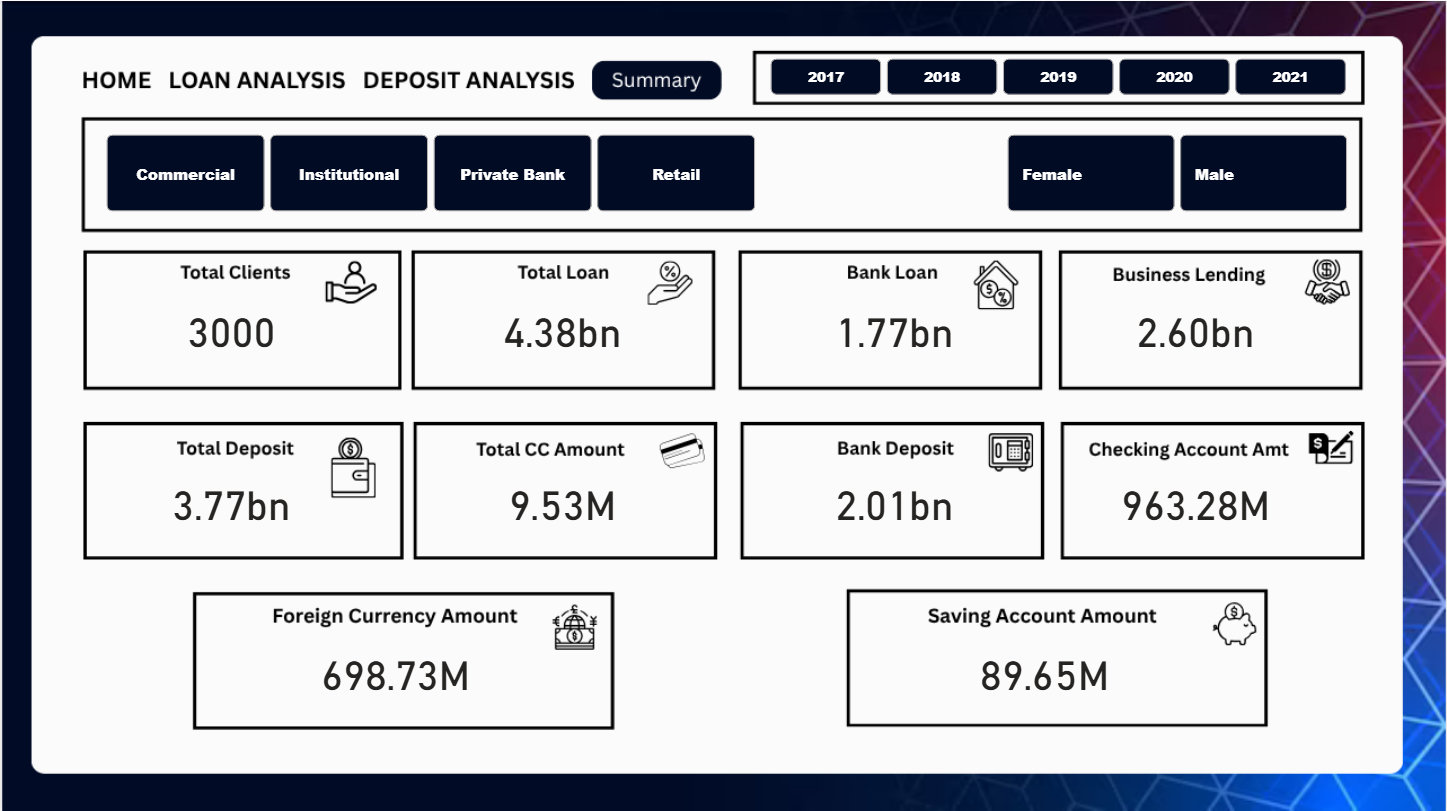

The page's visual inventory and layout, read from the dashboard file:
{"tool":"powerbi","page":{"name":"Summary","canvas":[1280,720],"ordinal":4},"visuals":[{"type":"advancedSlicerVisual","fields":{"Values":["bank_db customer.Year of Joining"]},"box":[676.8,45.8,521.2,42.2],"z":0},{"type":"advancedSlicerVisual","fields":{"Values":["bank_db customer.BRId"]},"box":[88.1,113.4,588.7,78.4],"z":1000},{"type":"advancedSlicerVisual","fields":{"Values":["bank_db customer.GenderId"]},"box":[886.7,113.4,311.3,78.4],"z":2000},{"type":"card","fields":{"Values":["bank_db customer.Total Deposits"]},"box":[108.6,411.4,190.6,66.4],"z":3000},{"type":"card","fields":{"Values":["CountNonNull(bank_db customer.Name)"]},"box":[108.6,258.2,190.6,66.4],"z":4000},{"type":"card","fields":{"Values":["bank_db customer.Total Loan"]},"box":[401.7,258.2,190.6,66.4],"z":5000},{"type":"card","fields":{"Values":["Sum(bank_db customer.Bank Loans)"]},"box":[696.1,258.2,190.6,66.4],"z":6000},{"type":"card","fields":{"Values":["Sum(bank_db customer.Business Lending)"]},"box":[962.7,258.2,190.6,66.4],"z":7000},{"type":"card","fields":{"Values":["Sum(bank_db customer.Bank Deposits)"]},"box":[696.1,411.4,190.6,66.4],"z":8000},{"type":"card","fields":{"Values":["Sum(bank_db customer.Checking Accounts)"]},"box":[962.7,411.4,190.6,66.4],"z":9000},{"type":"card","fields":{"Values":["Sum(bank_db customer.Saving Accounts)"]},"box":[253.4,562.2,190.6,66.4],"z":10000},{"type":"card","fields":{"Values":["Sum(bank_db customer.Foreign Currency Account)"]},"box":[828.8,562.2,190.6,66.4],"z":11000},{"type":"card","fields":{"Values":["Sum(bank_db customer.Credit Card Balance)"]},"box":[401.7,411.4,190.6,66.4],"z":12000},{"type":"actionButton","box":[62.7,48.3,76,39.8],"z":13000},{"type":"actionButton","box":[147.2,47.1,160.5,39.8],"z":14000},{"type":"actionButton","box":[317.3,48.3,191.8,39.8],"z":15000}]}

Visuals, with their boxes in screenshot pixels (x1, y1, x2, y2), scaled from the page's 1280x720 canvas onto the 1447x811 screenshot:
advancedSlicerVisual - bank_db customer.Year of Joining: BBox(765, 52, 1354, 99)
advancedSlicerVisual - bank_db customer.BRId: BBox(100, 128, 765, 216)
advancedSlicerVisual - bank_db customer.GenderId: BBox(1002, 128, 1354, 216)
card - bank_db customer.Total Deposits: BBox(123, 463, 338, 538)
card - CountNonNull(bank_db customer.Name): BBox(123, 291, 338, 366)
card - bank_db customer.Total Loan: BBox(454, 291, 670, 366)
card - Sum(bank_db customer.Bank Loans): BBox(787, 291, 1002, 366)
card - Sum(bank_db customer.Business Lending): BBox(1088, 291, 1304, 366)
card - Sum(bank_db customer.Bank Deposits): BBox(787, 463, 1002, 538)
card - Sum(bank_db customer.Checking Accounts): BBox(1088, 463, 1304, 538)
card - Sum(bank_db customer.Saving Accounts): BBox(286, 633, 502, 708)
card - Sum(bank_db customer.Foreign Currency Account): BBox(937, 633, 1152, 708)
card - Sum(bank_db customer.Credit Card Balance): BBox(454, 463, 670, 538)
actionButton: BBox(71, 54, 157, 99)
actionButton: BBox(166, 53, 348, 98)
actionButton: BBox(359, 54, 576, 99)
